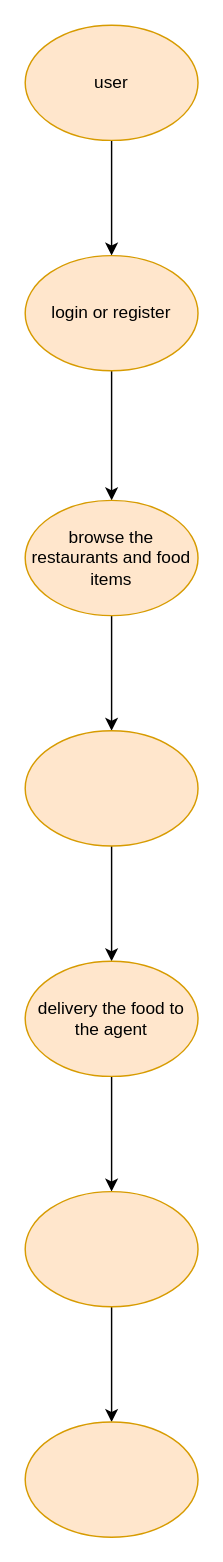
This 223x1562 diagram has some shape labels left out. Each missing label, with the centre of its shape:
food deliverd to the customer: [111,1248]
restaurant accepts &prepare food: [111,787]
